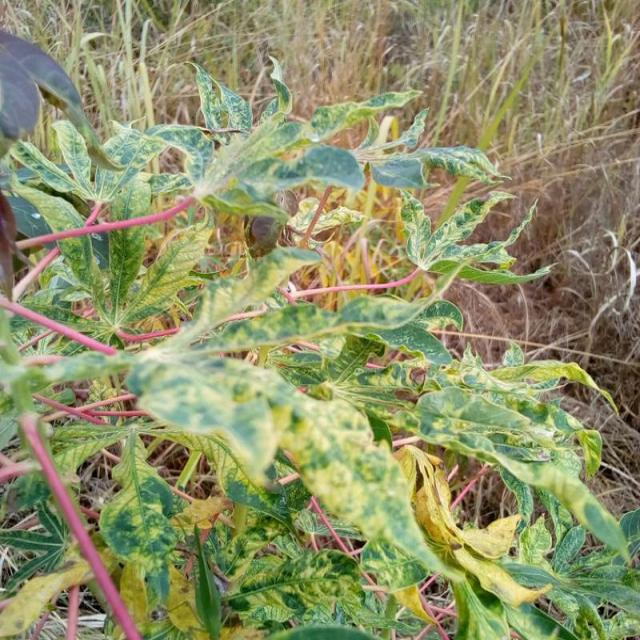cassava leaf: (1, 31, 636, 638), (125, 344, 444, 588)
